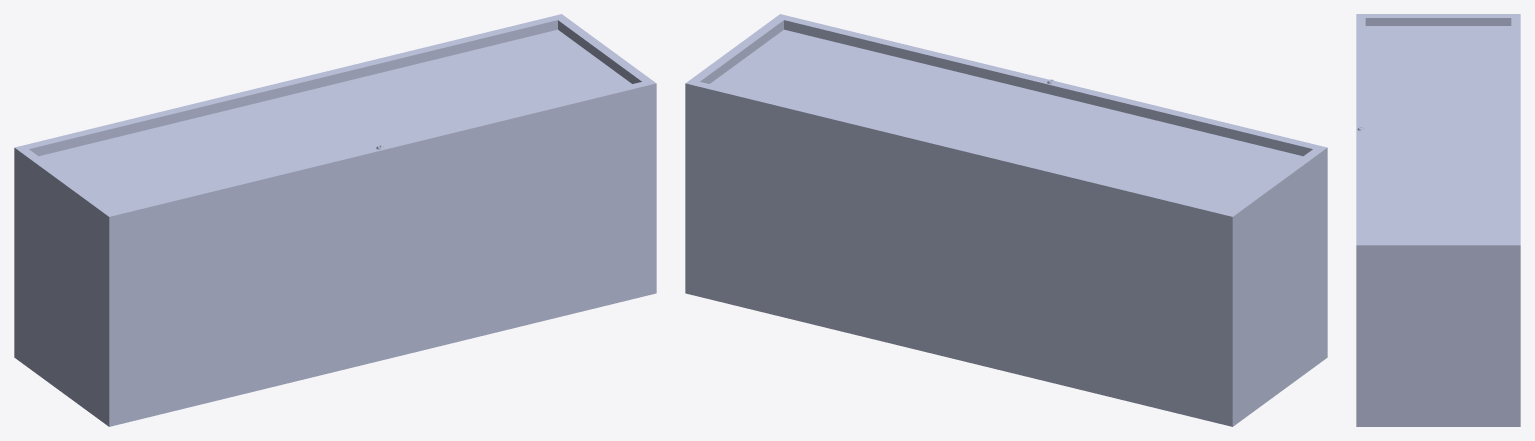
Rendered from Overhead cabinet - 60in._Y.fbx.
3 views of the same model, side by side, from view 1: azimuth 30°, elevation 25°; view 2: azimuth 150°, elevation 25°; view 3: azimuth 270°, elevation 25° (orthographic). The views are drawn at different scales.
Visible parts, largest first — view 1: Body_1; view 2: Body_1; view 3: Body_1.
Boxes of the visible parts, x1,y1,x2,y2 form: Body_1: (14, 14, 656, 426); Body_1: (685, 14, 1327, 426); Body_1: (1356, 14, 1520, 426).
Bounding box in the file's own units: 1.52 × 0.4572 × 0.5639.
